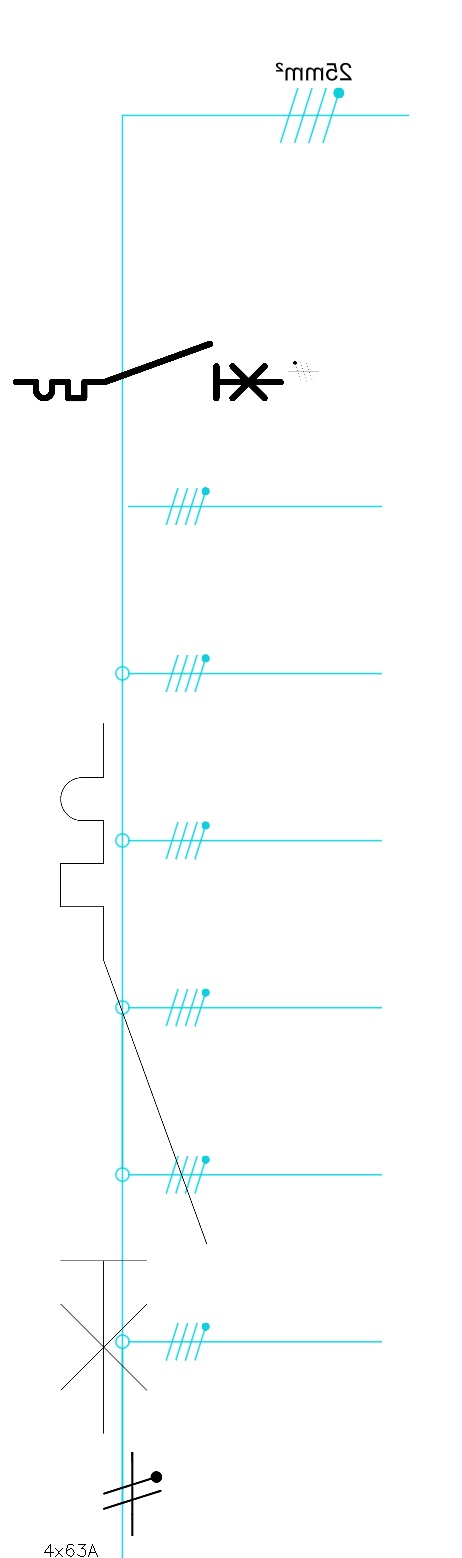interruptor_termomagnetico: (42, 705, 225, 1452), (9, 337, 287, 405)
